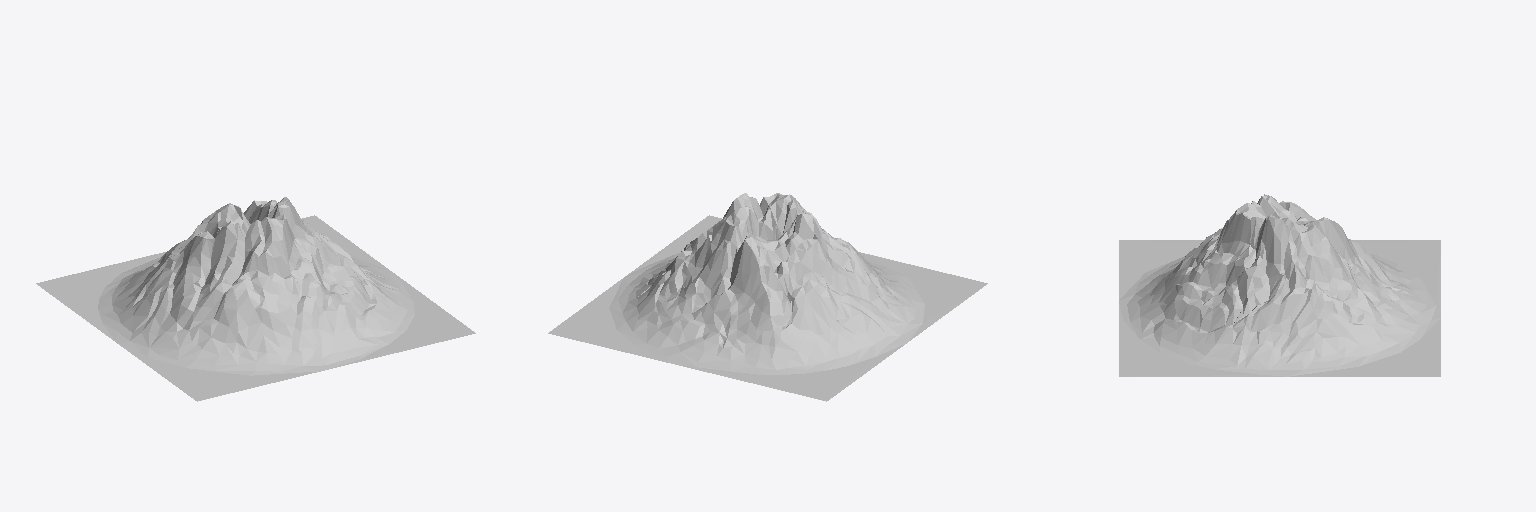
Rendered from volcano3.obj.
3 views of the same model, side by side, from view 1: azimuth 30°, elevation 25°; view 2: azimuth 150°, elevation 25°; view 3: azimuth 270°, elevation 25° (orthographic).
Parts seen in each view (by area): view 1: Landscape; view 2: Landscape; view 3: Landscape.
Boxes of the visible parts, <box> form: Landscape: <box>36,197,475,401</box>; Landscape: <box>548,193,987,401</box>; Landscape: <box>1119,194,1440,376</box>.
Bounding box in the file's own units: 2 × 0.7183 × 2.